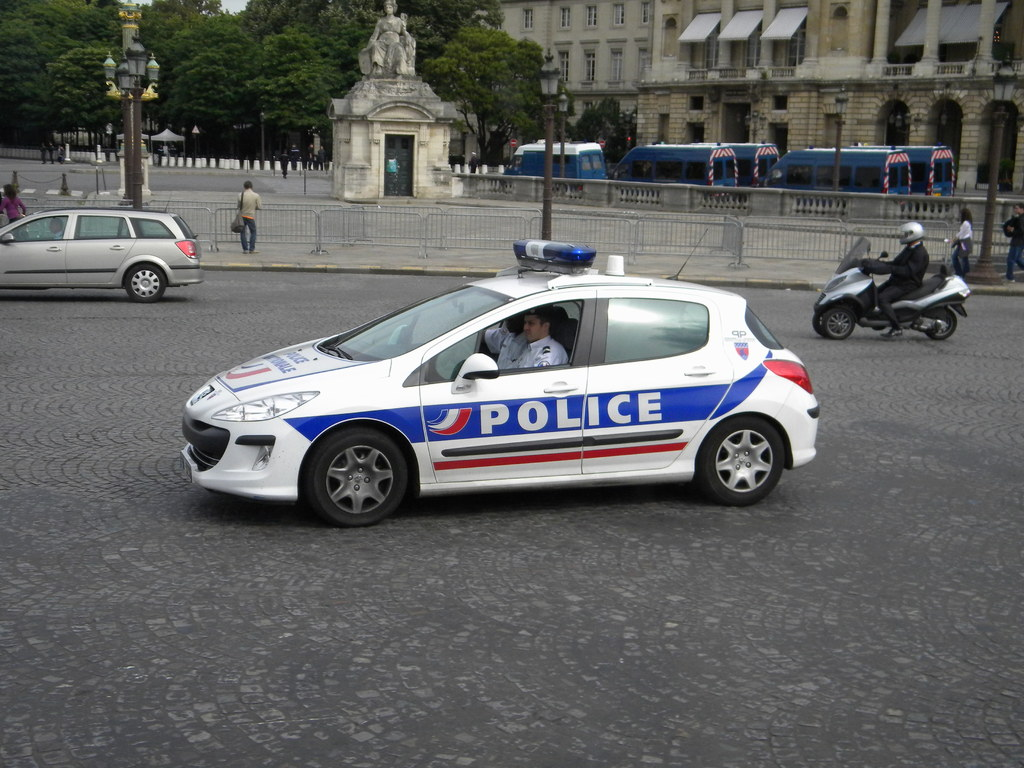Car: (173, 244, 810, 508), (0, 211, 206, 302)
